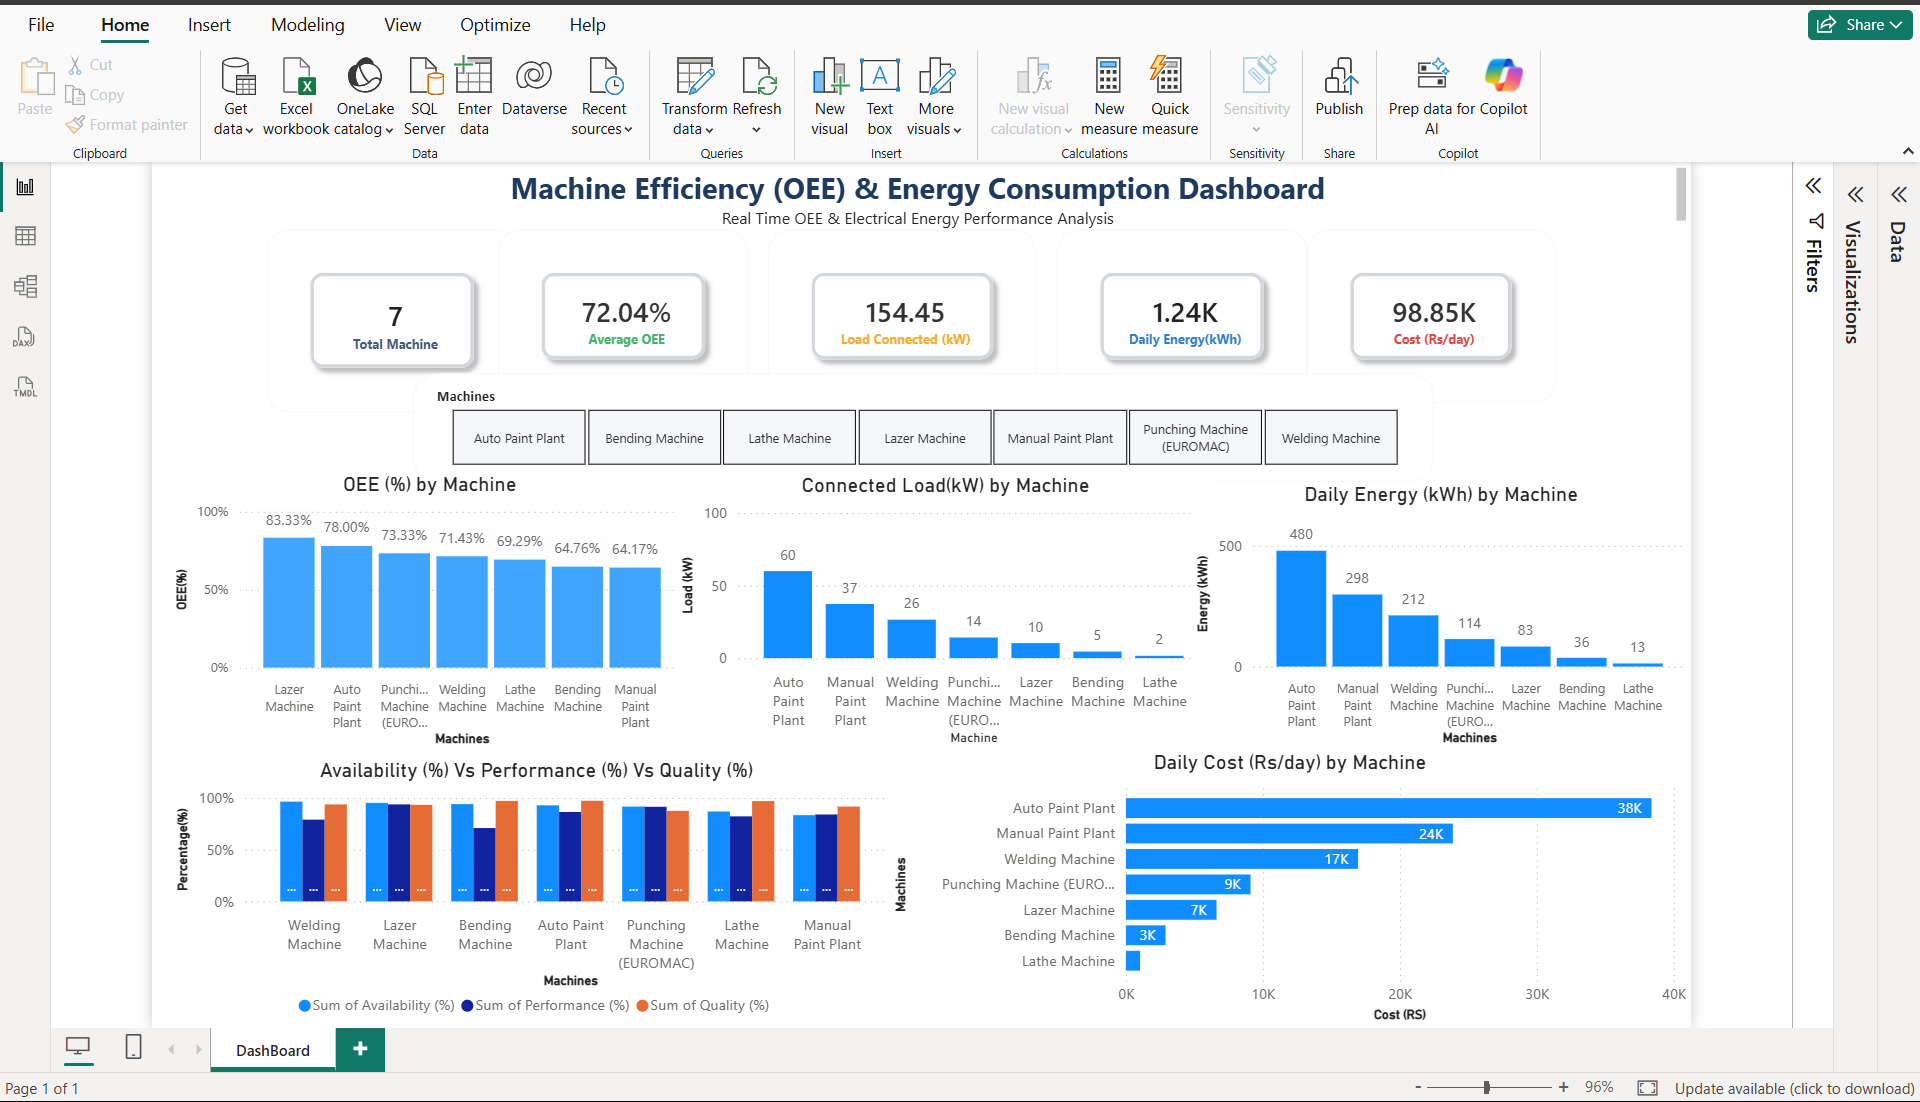

The page's visual inventory and layout, read from the dashboard file:
{"tool":"powerbi","page":{"name":"DashBoard","canvas":[1280,720],"ordinal":0},"visuals":[{"type":"textbox","box":[1,0,1279.3,64.4],"z":0},{"type":"cardVisual","fields":{"Data":["tblEnergySummary.Total Machines"]},"box":[95.6,56.1,208.9,151.7],"z":1000},{"type":"cardVisual","fields":{"Data":["tblOEE.Average OEE"]},"box":[288.4,55.8,208.1,144.2],"z":2000},{"type":"cardVisual","fields":{"Data":["tblEnergySummary.Total Load Connected"]},"box":[512.8,55.8,223.3,144.2],"z":3000},{"type":"cardVisual","fields":{"Data":["tblEnergySummary.Daily Energy(kWh)"]},"box":[752.3,55.8,208.1,144.2],"z":4000},{"type":"cardVisual","fields":{"Data":["tblEnergySummary.Cost (Rs/day)"]},"box":[960.5,55.8,207,144.2],"z":5000},{"type":"slicer","fields":{"Values":["tblOEE.Machine"]},"box":[217.2,175.6,849.1,90.4],"z":6000},{"type":"clusteredColumnChart","fields":{"Category":["tblOEE.Machine"],"Y":["Sum(tblOEE.OEE (%))"]},"box":[15.6,257.7,427.1,230.7],"z":7000},{"type":"clusteredColumnChart","title":"Availability (%) Vs Performance (%) Vs Quality (%) ","fields":{"Category":["tblOEE.Machine"],"Y":["Sum(tblOEE.Availability (%))","Sum(tblOEE.Performance (%))","Sum(tblOEE.Quality (%))"]},"box":[16,496,608,224],"z":8000},{"type":"clusteredColumnChart","title":"Connected Load(kW) by Machine","fields":{"Category":["tblEnergySummary.Machine"],"Y":["Sum(tblEnergySummary.Connected Load(kW))"]},"box":[435.5,258.8,449,230.7],"z":9000},{"type":"columnChart","title":"Daily Energy (kWh) by Machine","fields":{"Category":["tblEnergySummary.Machine"],"Y":["Sum(tblEnergySummary.Daily Energy (kWh))"]},"box":[863.6,266.1,416.7,223.4],"z":10000},{"type":"clusteredBarChart","title":"Daily Cost (Rs/day) by Machine","fields":{"Category":["tblEnergySummary.Machine"],"Y":["Sum(tblEnergySummary.Daily Cost (Rs/day))"]},"box":[612.1,488.5,668.2,231.8],"z":11000}]}

Visuals, with their boxes on the page's 1280x720 design canvas (x1, y1, x2, y2). These are canvas units, not pixel positions in the 1920x1102 screenshot, which may show the page scaled, cropped or inside an application window:
textbox: bbox=[1, 0, 1280, 64]
cardVisual - tblEnergySummary.Total Machines: bbox=[96, 56, 304, 208]
cardVisual - tblOEE.Average OEE: bbox=[288, 56, 496, 200]
cardVisual - tblEnergySummary.Total Load Connected: bbox=[513, 56, 736, 200]
cardVisual - tblEnergySummary.Daily Energy(kWh): bbox=[752, 56, 960, 200]
cardVisual - tblEnergySummary.Cost (Rs/day): bbox=[960, 56, 1168, 200]
slicer - tblOEE.Machine: bbox=[217, 176, 1066, 266]
clusteredColumnChart - tblOEE.Machine x Sum(tblOEE.OEE (%)): bbox=[16, 258, 443, 488]
"Availability (%) Vs Performance (%) Vs Quality (%) " clusteredColumnChart: bbox=[16, 496, 624, 720]
"Connected Load(kW) by Machine" clusteredColumnChart: bbox=[436, 259, 884, 490]
"Daily Energy (kWh) by Machine" columnChart: bbox=[864, 266, 1280, 490]
"Daily Cost (Rs/day) by Machine" clusteredBarChart: bbox=[612, 488, 1280, 720]
